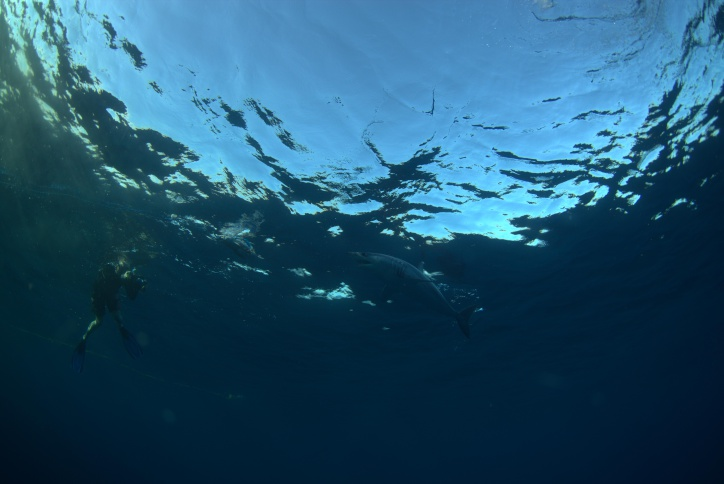Mako: (326, 239, 485, 347)
